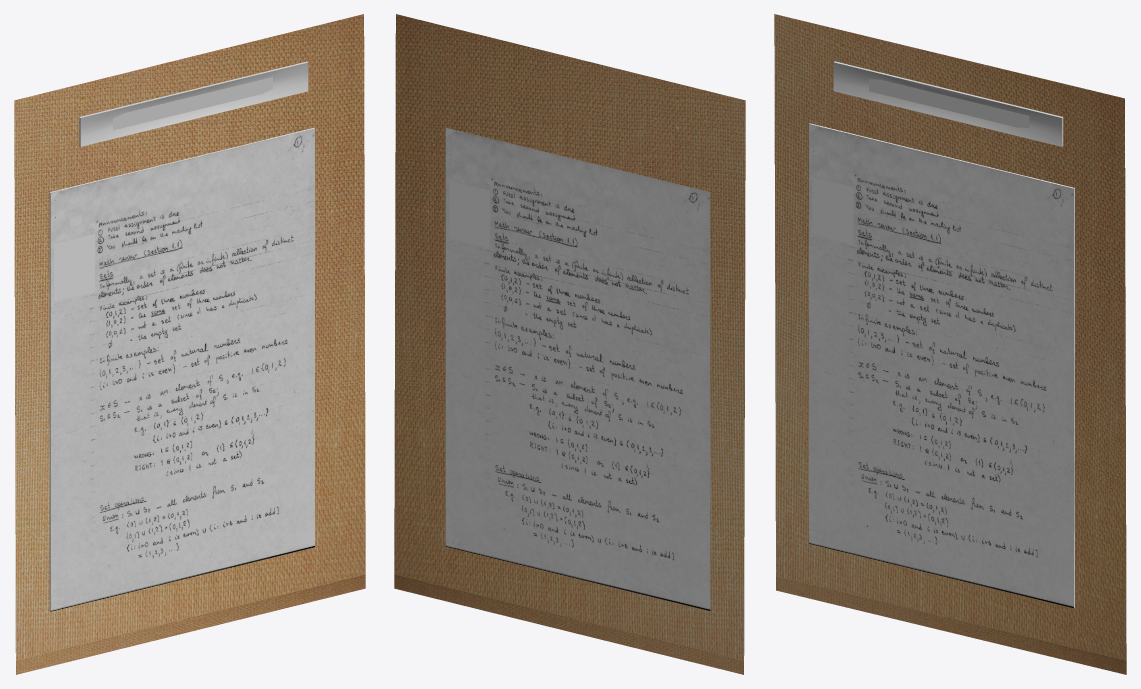
The model's file is notePad.FBX.
The picture shows the model from 3 angles, left to right: view 1: azimuth 30°, elevation 25°; view 2: azimuth 150°, elevation 25°; view 3: azimuth 330°, elevation 25°; orthographic projection.
Visible parts, largest first — view 1: Box002, Box001, Box003; view 2: Box002, Box001; view 3: Box002, Box001, Box003.
Part boxes in pixels (x1=…): Box002: x1=49, y1=128, x2=314, y2=611; Box001: x1=14, y1=14, x2=365, y2=674; Box003: x1=79, y1=61, x2=308, y2=146; Box002: x1=445, y1=128, x2=710, y2=610; Box001: x1=394, y1=14, x2=745, y2=674; Box002: x1=809, y1=123, x2=1074, y2=608; Box001: x1=774, y1=14, x2=1126, y2=674; Box003: x1=833, y1=61, x2=1063, y2=146.
Size of the model in its own units: 20.29 by 31.78 by 0.3674.
Materials: 2 (2 with a texture image).
